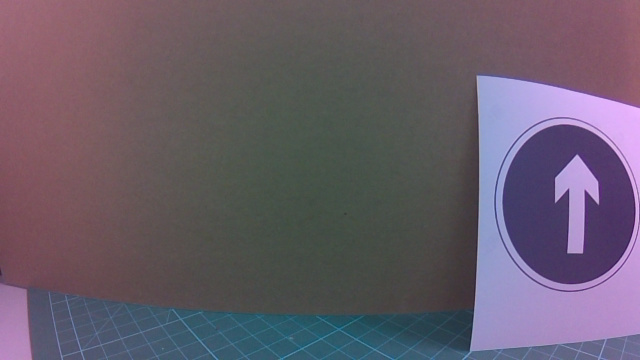forward: (509, 97, 640, 303)
